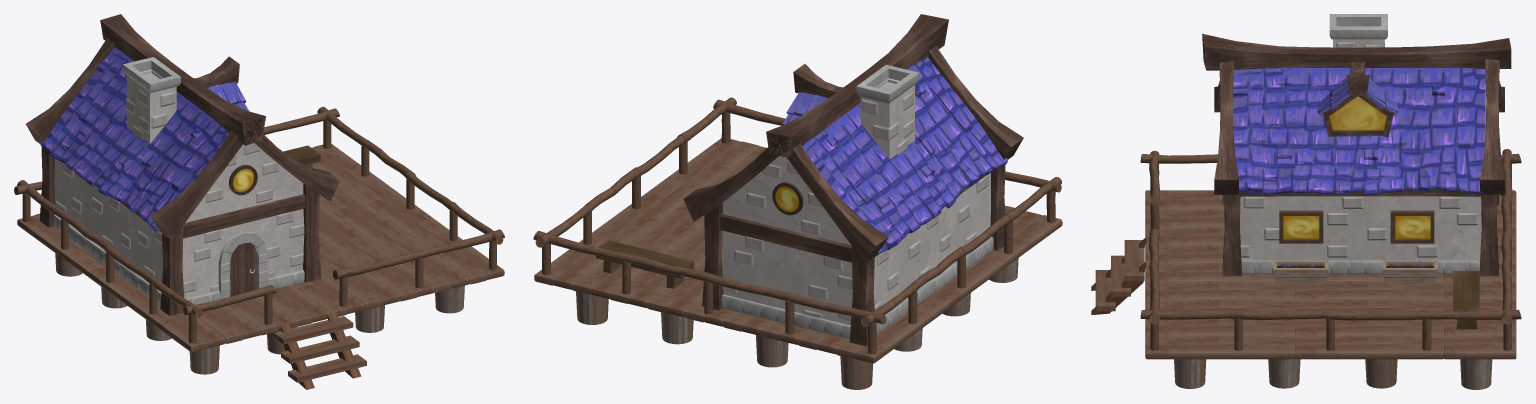
The picture shows the model from 3 angles, left to right: view 1: azimuth 30°, elevation 25°; view 2: azimuth 150°, elevation 25°; view 3: azimuth 270°, elevation 25°; orthographic projection. The views are drawn at different scales.
Visible parts, largest first — view 1: polySurface10, housewall, housewall1, woodensupport3, woodensupport15, woodensupport2, woodensupport16, woodensupport5, housewall2, doorsurround2, woodensupport4, woodensupport1 (+56 smaller); view 2: polySurface10, housewall, housewall1, woodensupport5, woodensupport16, brick118, woodensupport15, woodensupport7, woodensupport3, housewall2, woodensupport6, polySurface63 (+46 smaller); view 3: polySurface6, housewall, woodensupport15, woodensupport16, polySurface56, polySurface57, woodensupport6, woodensupport4, bricksurround, chimneytop, woodensupport, woodensupport9 (+62 smaller).
Boxes of the visible parts, bbox=[...] form: polySurface10: bbox=[38, 47, 228, 231]; housewall: bbox=[54, 158, 304, 298]; housewall1: bbox=[185, 144, 303, 222]; woodensupport3: bbox=[150, 130, 242, 240]; woodensupport15: bbox=[176, 76, 265, 145]; woodensupport2: bbox=[183, 194, 305, 238]; woodensupport16: bbox=[100, 14, 189, 77]; woodensupport5: bbox=[26, 38, 114, 142]; housewall2: bbox=[127, 69, 176, 143]; doorsurround2: bbox=[218, 232, 268, 299]; woodensupport4: bbox=[255, 134, 339, 201]; woodensupport1: bbox=[160, 225, 184, 315]; polySurface10: bbox=[802, 57, 1007, 254]; housewall: bbox=[722, 173, 990, 325]; housewall1: bbox=[723, 156, 851, 245]; woodensupport5: bbox=[786, 143, 888, 263]; woodensupport16: bbox=[766, 82, 860, 157]; brick118: bbox=[722, 160, 852, 321]; woodensupport15: bbox=[850, 14, 948, 84]; woodensupport7: bbox=[719, 214, 851, 262]; woodensupport3: bbox=[928, 46, 1023, 159]; housewall2: bbox=[860, 78, 914, 159]; woodensupport6: bbox=[683, 147, 778, 221]; polySurface63: bbox=[855, 297, 949, 363]; polySurface6: bbox=[1233, 68, 1485, 195]; housewall: bbox=[1240, 196, 1481, 270]; woodensupport15: bbox=[1202, 33, 1355, 70]; woodensupport16: bbox=[1355, 38, 1511, 68]; polySurface56: bbox=[1145, 344, 1294, 359]; polySurface57: bbox=[1295, 344, 1443, 359]; woodensupport6: bbox=[1480, 59, 1504, 194]; woodensupport4: bbox=[1214, 61, 1238, 194]; bricksurround: bbox=[1241, 260, 1478, 273]; chimneytop: bbox=[1329, 14, 1387, 39]; woodensupport: bbox=[1222, 192, 1241, 276]; woodensupport9: bbox=[1479, 195, 1498, 276].
Bounding box in the file's own units: 23.28 × 16.15 × 25.24.
Materials: 26 (25 with a texture image).
